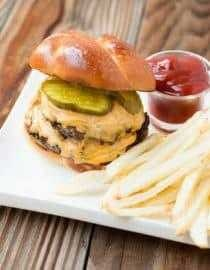hamburger: (26, 28, 148, 169)
